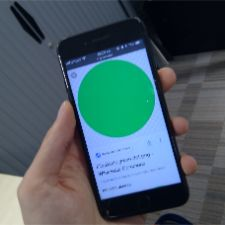focus: (72, 58, 160, 137)
